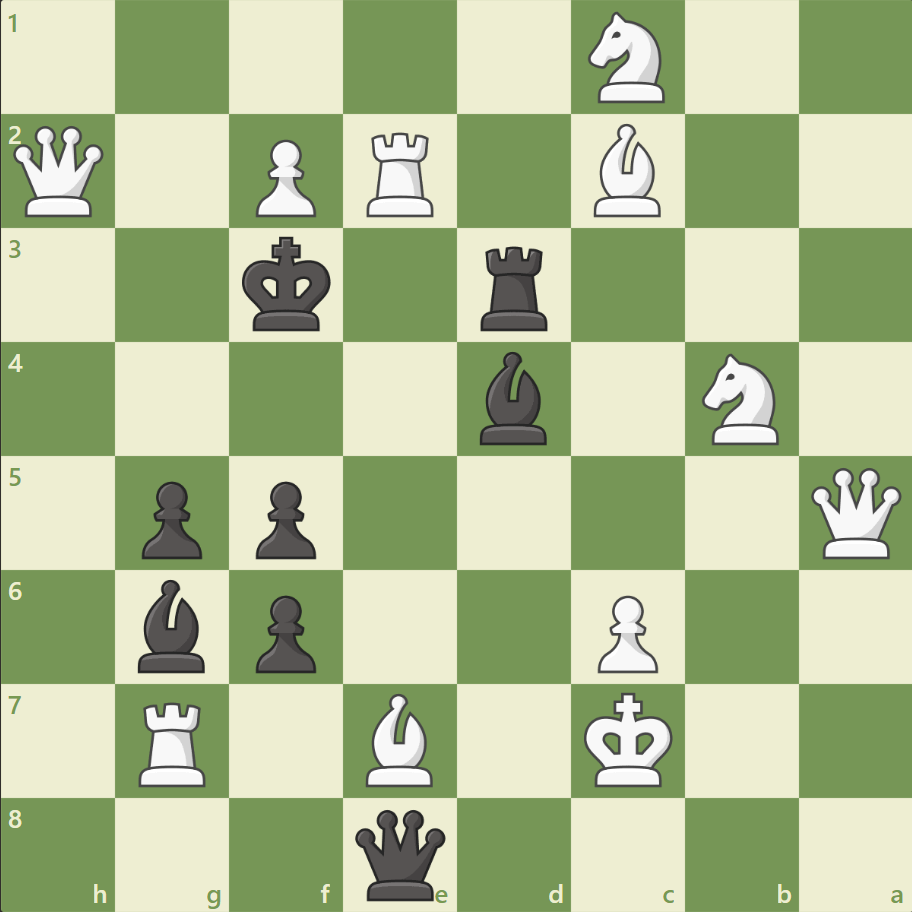B: (358, 687, 442, 790), (585, 120, 669, 222)
K: (579, 685, 679, 793)
N: (579, 7, 676, 110), (692, 348, 789, 450)
P: (247, 132, 322, 223), (588, 586, 662, 677)
Q: (10, 122, 109, 222), (805, 463, 904, 562)
R: (133, 693, 215, 790), (360, 125, 442, 222)
b: (131, 574, 215, 676), (471, 347, 555, 449)
k: (238, 231, 338, 339)
p: (247, 586, 322, 677), (247, 473, 322, 564), (133, 473, 208, 564)
q: (351, 804, 450, 903)
r: (473, 239, 556, 336)
